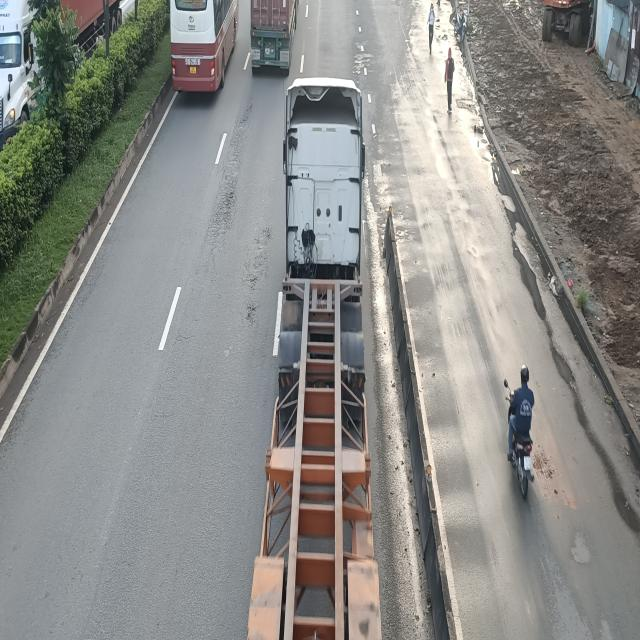coach: (170, 0, 242, 96)
container: (247, 73, 383, 640), (249, 2, 301, 78)
